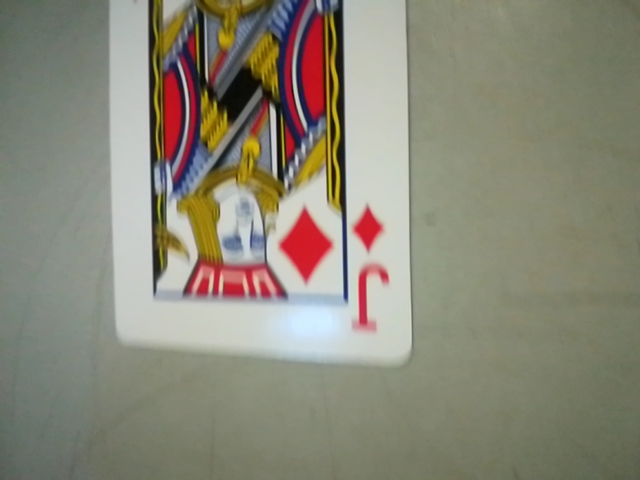fk j: (338, 197, 401, 342)
